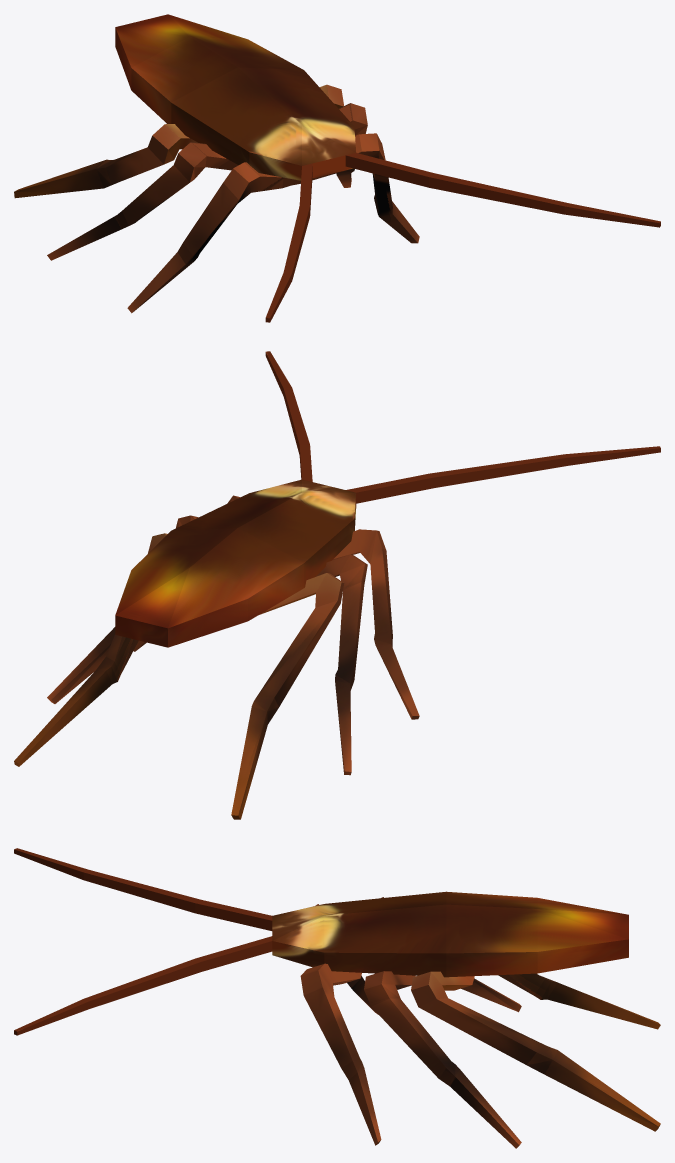
The model's file is 01_Cockroach.fbx.
The picture shows the model from 3 angles, top to bottom: view 1: azimuth 30°, elevation 25°; view 2: azimuth 150°, elevation 25°; view 3: azimuth 270°, elevation 25°; orthographic projection. The views are drawn at different scales.
Visible parts, largest first — view 1: 01_Cockroach.002; view 2: 01_Cockroach.002; view 3: 01_Cockroach.002.
Boxes of the visible parts, x1,y1,x2,y2 form: 01_Cockroach.002: (14,14,660,322); 01_Cockroach.002: (14,351,660,819); 01_Cockroach.002: (14,848,660,1148).
Size of the model in its own units: 0.049 by 0.0218 by 0.073.
Materials: 1 (1 with a texture image).
